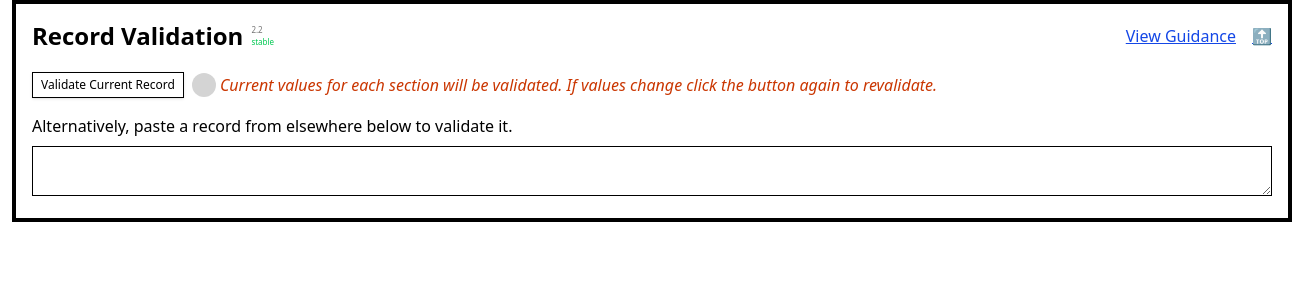
RecordValidation › renders correctly with non-parsable user input
This screenshot has width=1292, height=303.
Type "x" into the text box at (652, 171), box x1=32 y1=146 x2=1272 y2=196
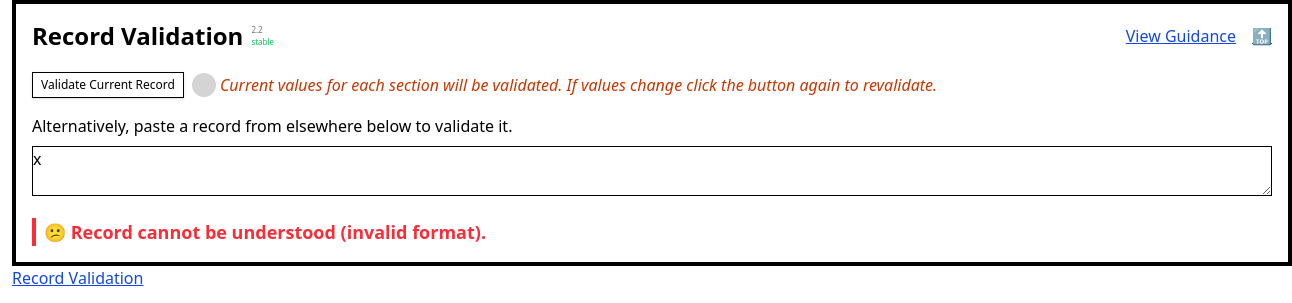
Check: the text "😕 Record cannot be understood (invalid format)." is shown, box x1=32 y1=218 x2=1272 y2=246
